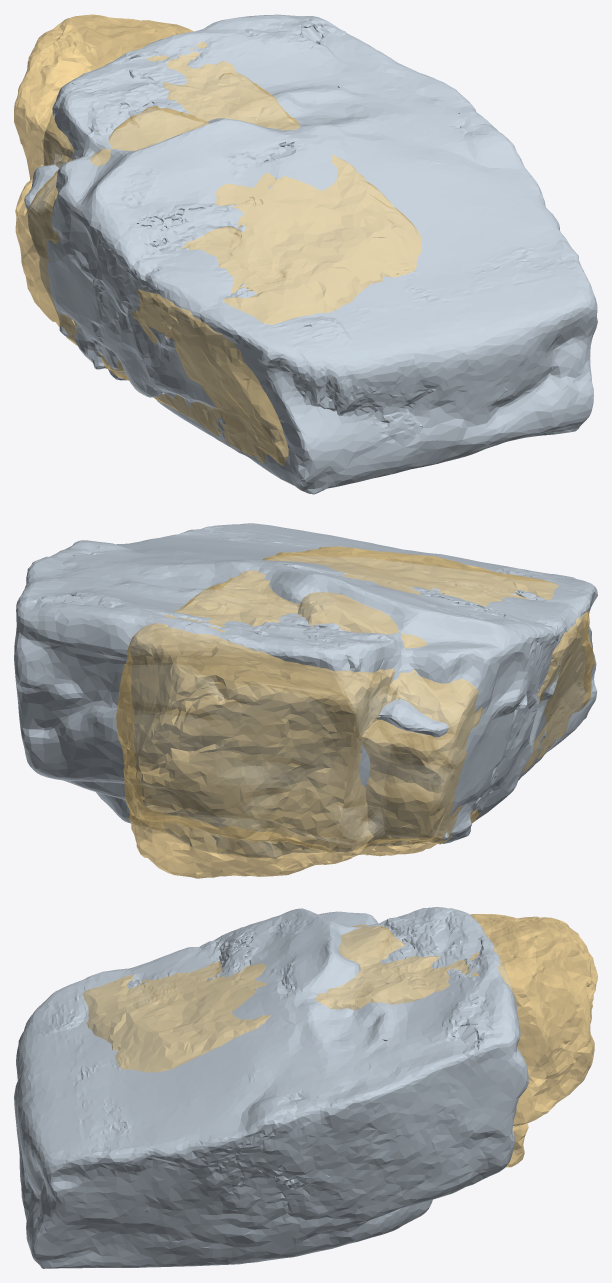
3 renders of one model, top to bottom at view 1: azimuth 30°, elevation 25°; view 2: azimuth 150°, elevation 25°; view 3: azimuth 270°, elevation 25°, orthographic. The views are drawn at different scales.
Parts seen in each view (by area): view 1: imagination, truth; view 2: imagination, truth; view 3: imagination, truth.
Boxes of the visible parts, x1,y1,x2,y2 form: imagination: (24, 14, 597, 494); truth: (14, 14, 421, 465); imagination: (14, 523, 597, 858); truth: (116, 546, 594, 878); imagination: (14, 907, 528, 1268); truth: (82, 914, 597, 1167).
Size of the model in its own units: 0.9624 by 0.57 by 1.25.
